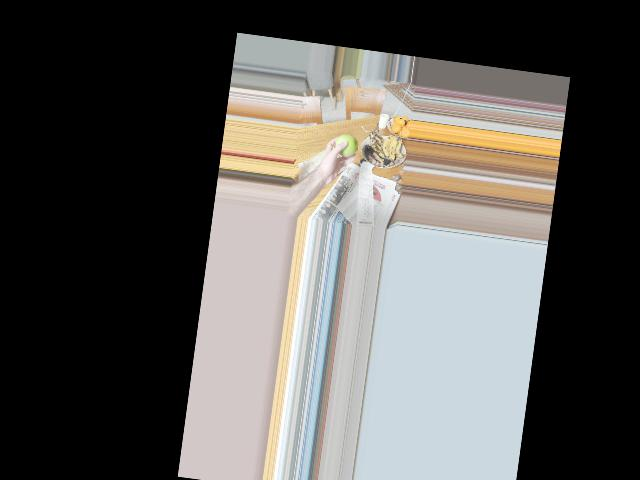apple: (336, 131, 359, 160)
